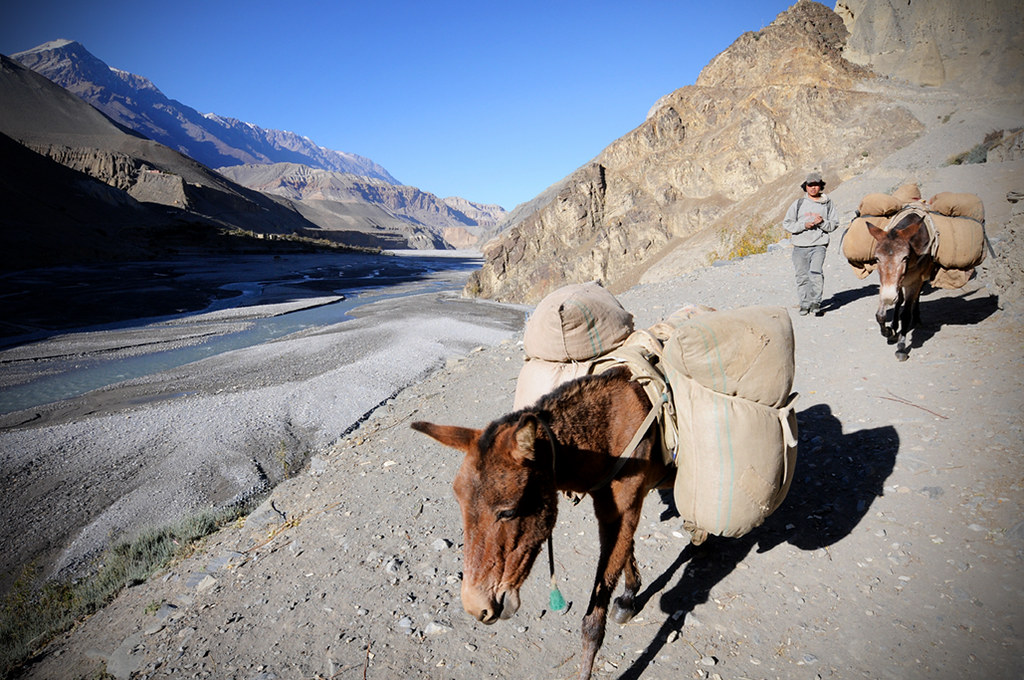equine: (399, 315, 792, 680), (848, 182, 976, 368)
human: (776, 165, 842, 326)
